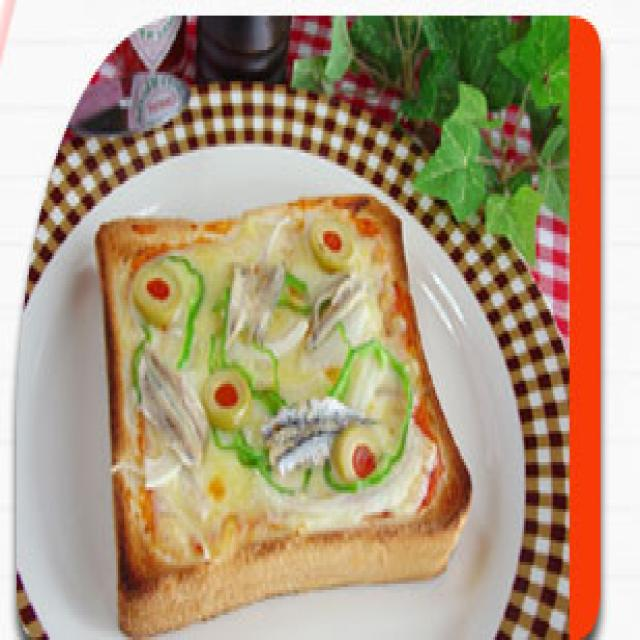面包点心: (21, 153, 514, 621)
